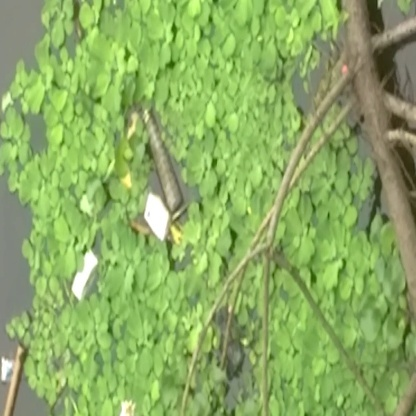branch: (335, 5, 416, 260)
